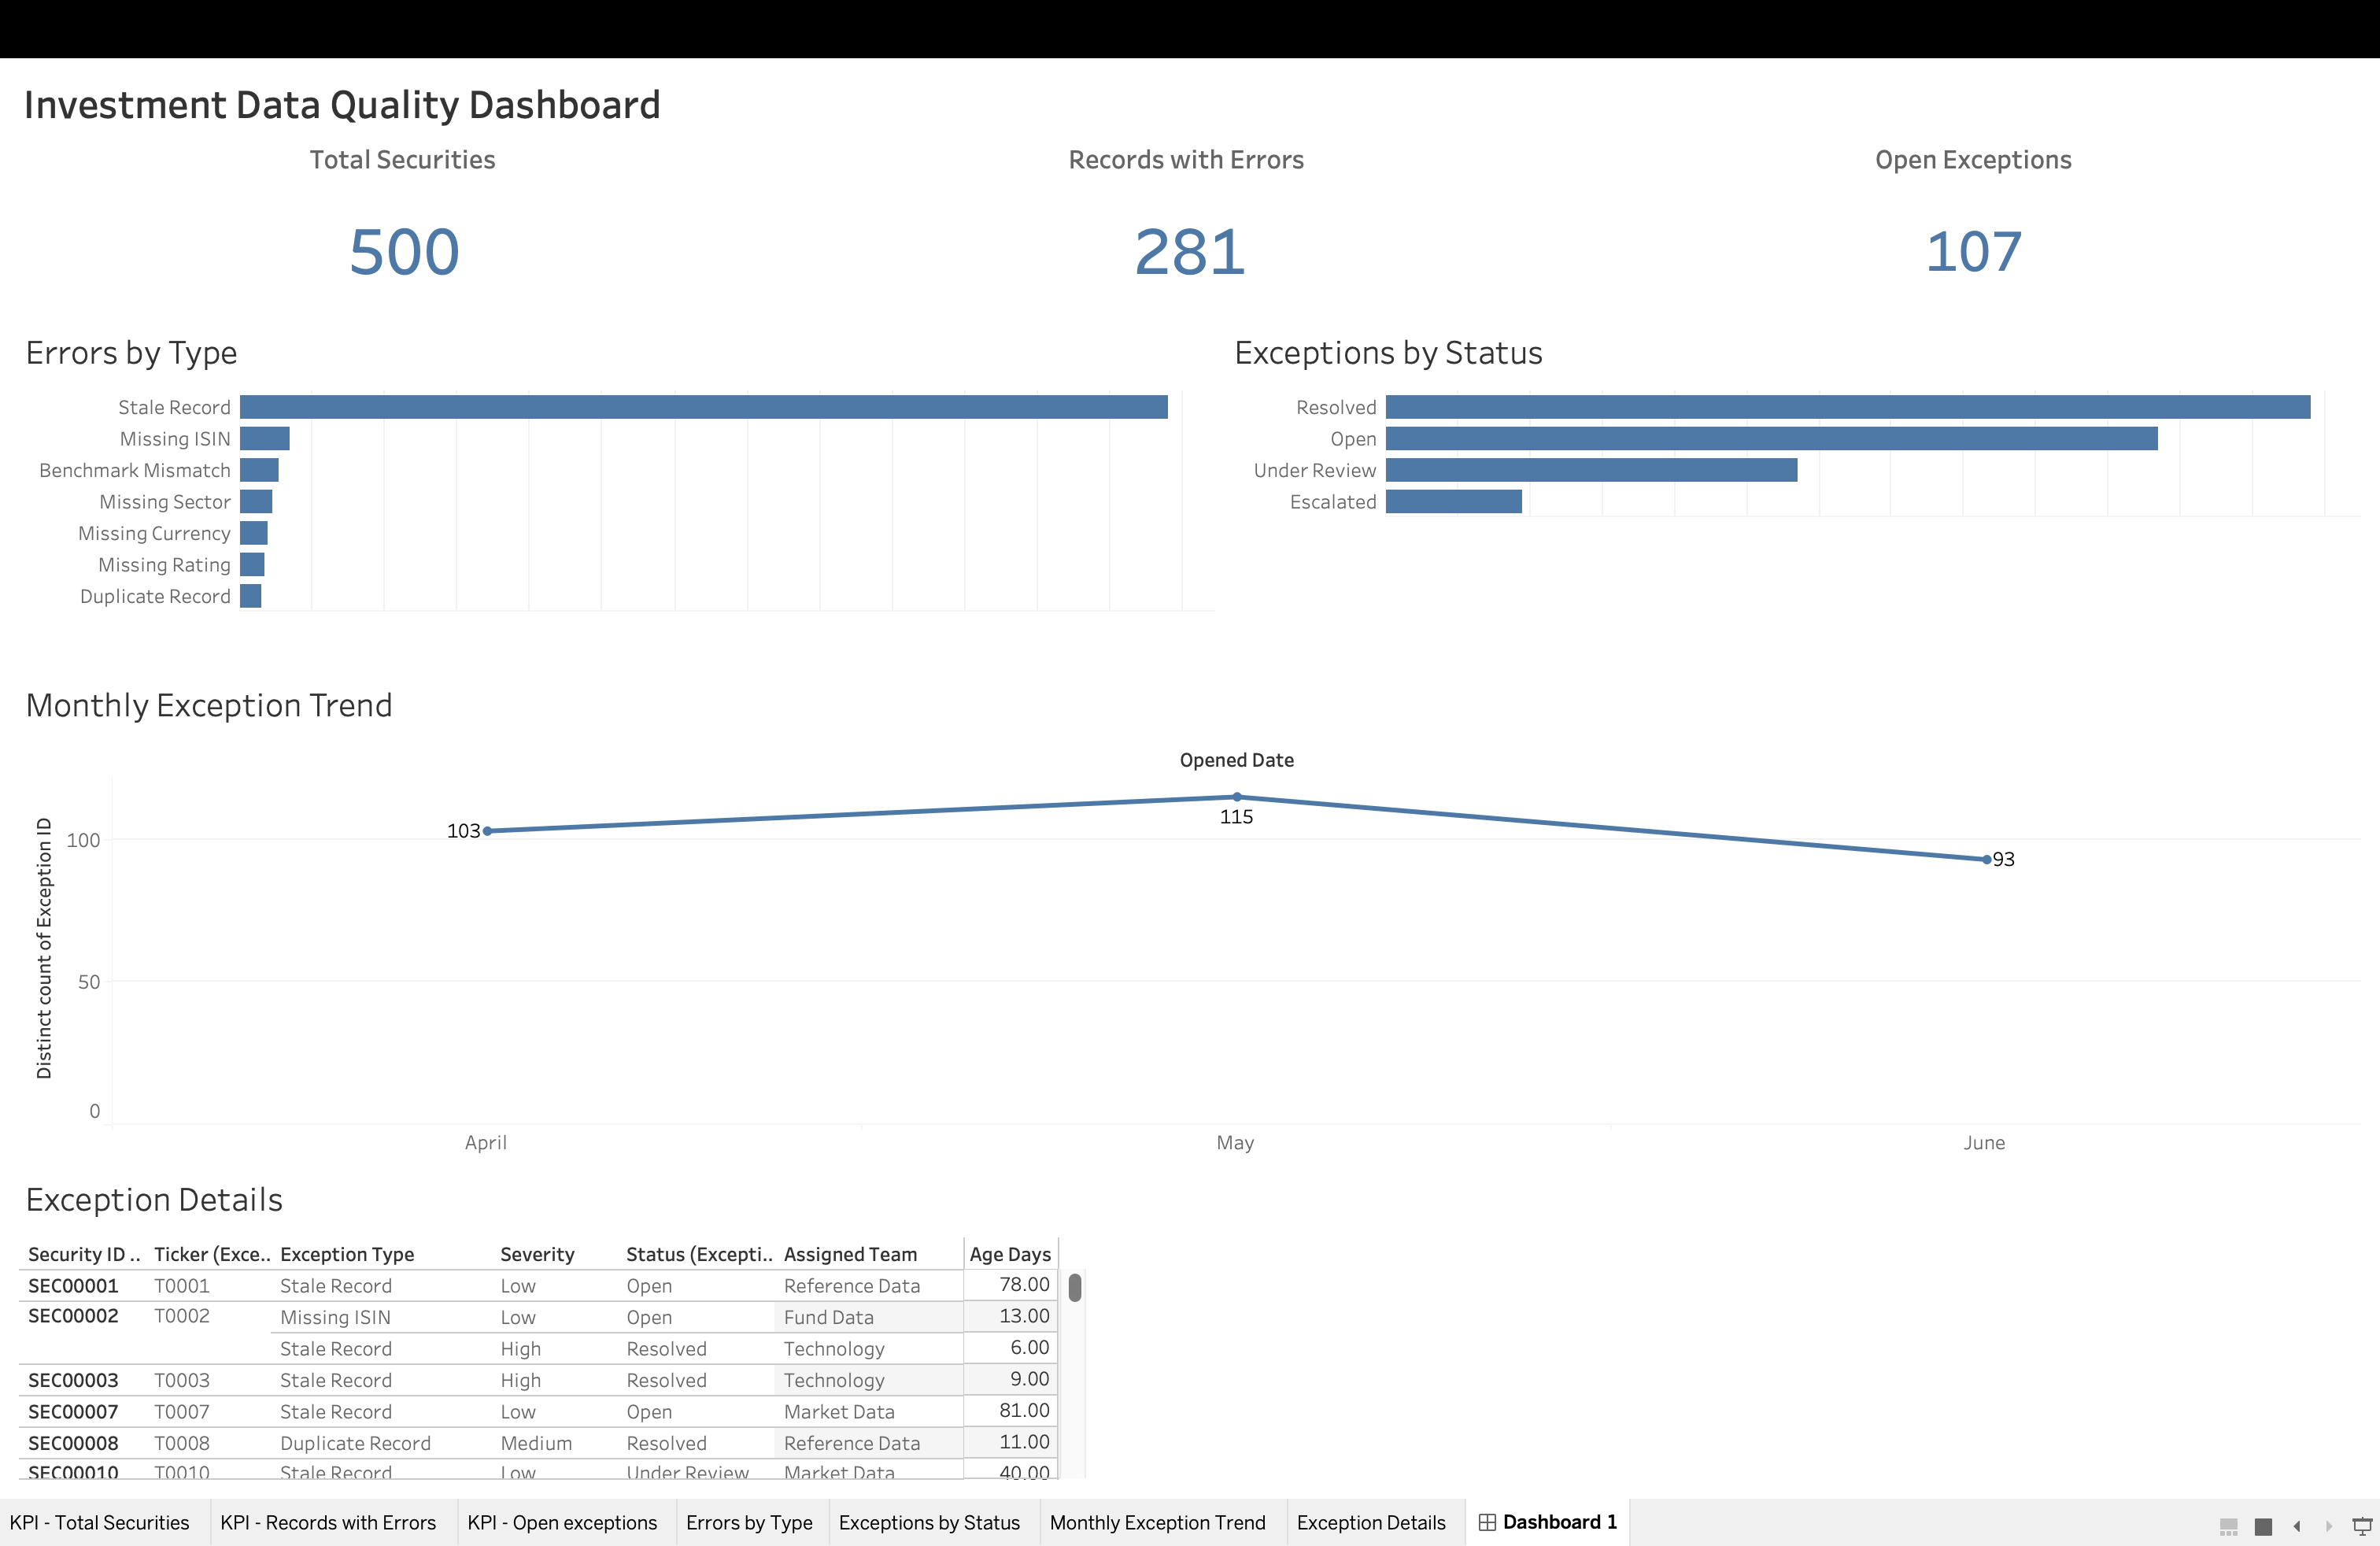

What the dashboard file says about the page in this screenshot:
{"tool":"tableau","page":{"name":"Dashboard 1","canvas":[1000,1000],"units":"permille","ordinal":0},"visuals":[{"type":"title","box":[6.2,10.3,987.7,52.8]},{"type":"text","box":[6.2,63.1,327.2,38.6]},{"type":"text","box":[333.3,63.1,330.3,38.6]},{"type":"text","box":[663.6,63.1,330.3,38.6]},{"type":"worksheet","title":"KPI - Total Securities","mark":"Text","box":[6.2,101.7,329.2,109.4]},{"type":"worksheet","title":"KPI - Records with Errors","mark":"Text","box":[335.4,101.7,329.2,109.4]},{"type":"worksheet","title":"KPI - Open exceptions","mark":"Automatic","box":[664.6,101.7,329.2,109.4]},{"type":"worksheet","title":"Errors by Type","mark":"Bar","rows":["Exception_Type"],"cols":["Exception_ID"],"box":[6.2,211.1,509.2,288.3]},{"type":"worksheet","title":"Exceptions by Status","mark":"Automatic","rows":["Status (Exceptions)"],"cols":["Exception_ID"],"box":[515.4,211.1,478.5,288.3]},{"type":"worksheet","title":"Monthly Exception Trend","mark":"Line","rows":["Exception_ID"],"cols":["Opened_Date"],"box":[6.2,499.4,987.7,266.8]},{"type":"worksheet","title":"Exception Details","mark":"Automatic","rows":["Security_ID (Exceptions)","Ticker (Exceptions)","Exception_Type","Severity","Status (Exceptions)","Assigned_Team"],"box":[6.2,766.2,987.7,223.5]}]}

Visuals, with their boxes on the dashboard's canvas, which has no fixed pixel size, in thousandths of its width and height (x1, y1, x2, y2). These are canvas units, not pixel positions in the 2380x1546 screenshot, which may show the page scaled, cropped or inside an application window:
title: select_region(6, 10, 994, 63)
text: select_region(6, 63, 333, 102)
text: select_region(333, 63, 664, 102)
text: select_region(664, 63, 994, 102)
"KPI - Total Securities" worksheet (Text marks): select_region(6, 102, 335, 211)
"KPI - Records with Errors" worksheet (Text marks): select_region(335, 102, 665, 211)
"KPI - Open exceptions" worksheet: select_region(665, 102, 994, 211)
"Errors by Type" worksheet (Bar marks): select_region(6, 211, 515, 499)
"Exceptions by Status" worksheet: select_region(515, 211, 994, 499)
"Monthly Exception Trend" worksheet (Line marks): select_region(6, 499, 994, 766)
"Exception Details" worksheet: select_region(6, 766, 994, 990)
